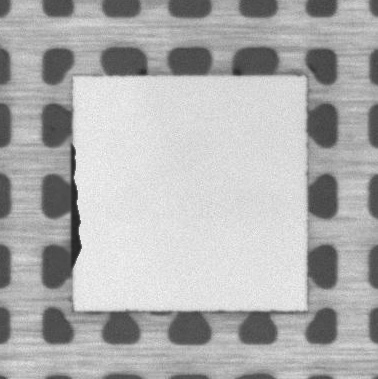DIE_BROKEN: (68, 137, 84, 269)
